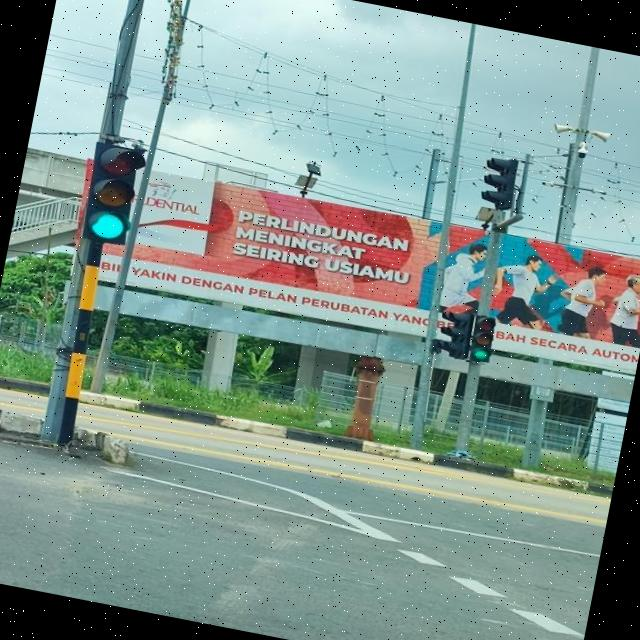green_light: (81, 141, 148, 248), (469, 315, 500, 364)
